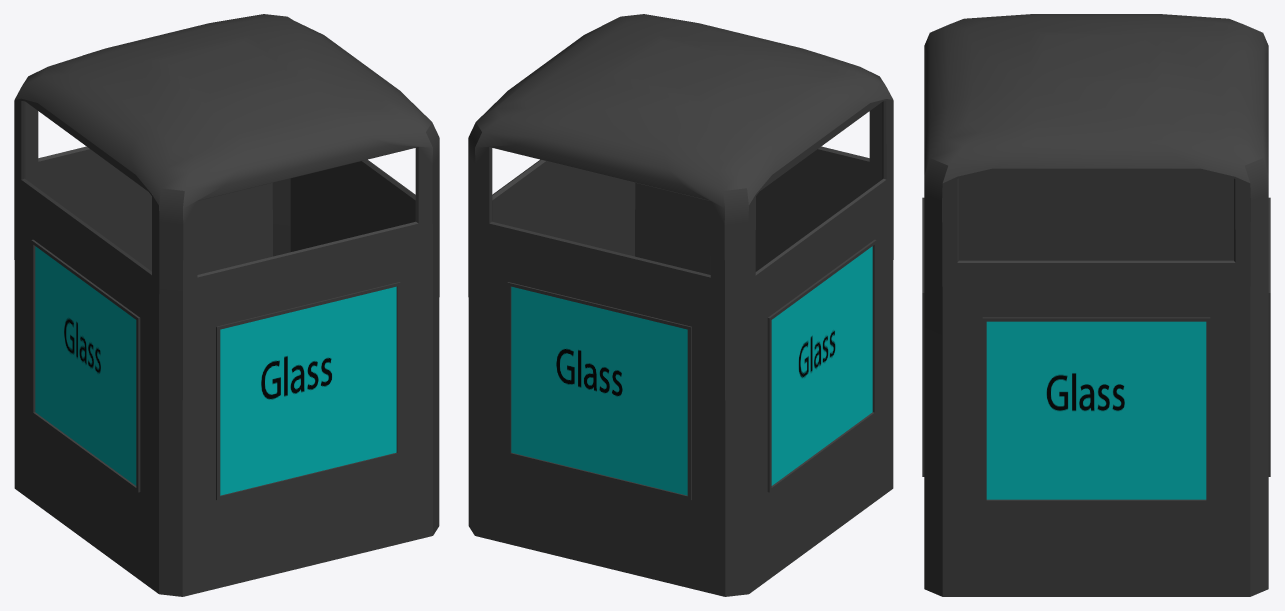
File: Outdoor Bin glass.fbx
3 renders of one model, left to right at view 1: azimuth 30°, elevation 25°; view 2: azimuth 150°, elevation 25°; view 3: azimuth 270°, elevation 25°, orthographic. The views are drawn at different scales.
Parts seen in each view (by area): view 1: pCube6; view 2: pCube6; view 3: pCube6.
Part boxes in pixels (x1=…): pCube6: x1=14, y1=14, x2=439, y2=596; pCube6: x1=468, y1=14, x2=893, y2=596; pCube6: x1=922, y1=14, x2=1270, y2=596.
Size of the model in its own units: 1.01 by 1.5 by 1.01.
2 materials, 1 textured.
